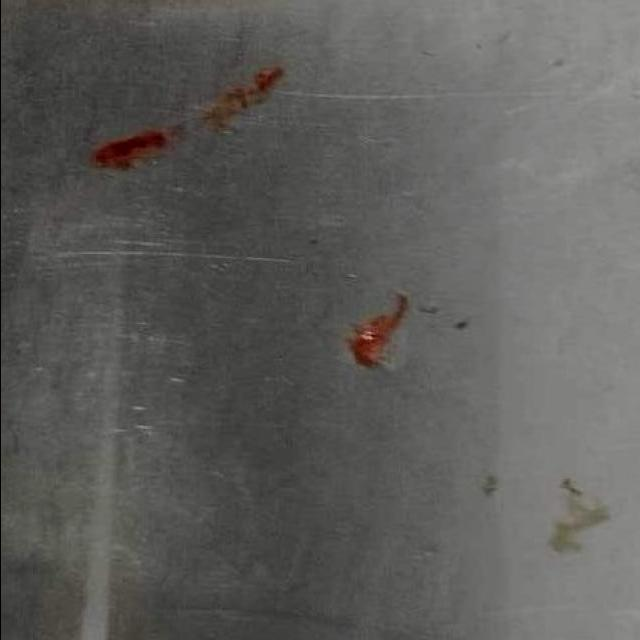Infectious: (345, 291, 412, 372)
Pathological: (3, 3, 638, 638)
Sharps: (91, 66, 288, 175)
